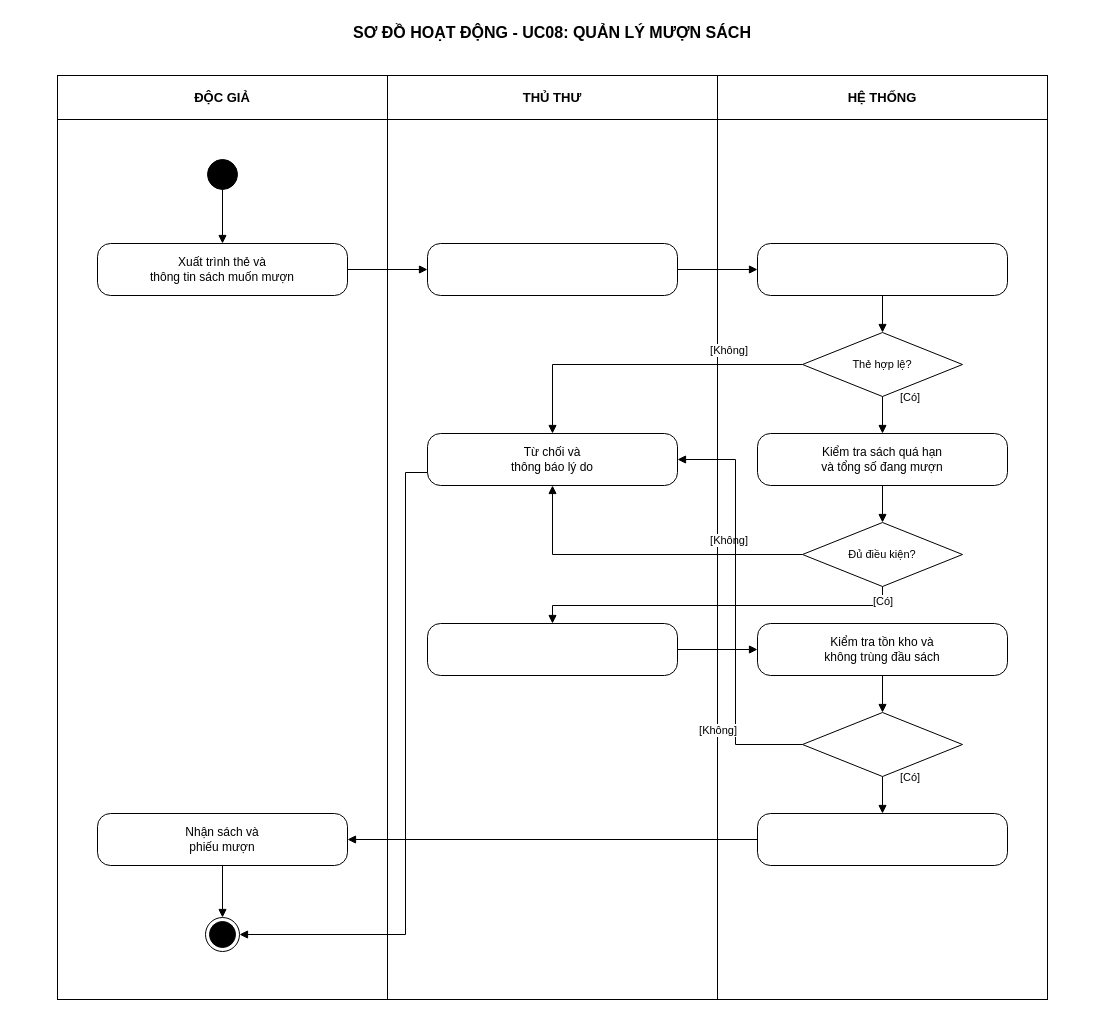
This 1104x1017 diagram has some shape labels left out. The box of each missing label's shape, as (x1, y1, x2, y2) in pixels:
Chọn 1-3 đầu sách khác nhau & ngày hẹn trả: (426, 622, 678, 676)
Kiểm tra thẻ còn hạn và đã đóng lệ phí: (756, 242, 1008, 296)
Lưu phiếu mượn và giảm số lượng hiện có: (756, 812, 1008, 866)
Sách hợp lệ?: (802, 712, 962, 776)
Tiếp nhận yêu cầu & nhập mã thẻ độc giả: (426, 242, 678, 296)
